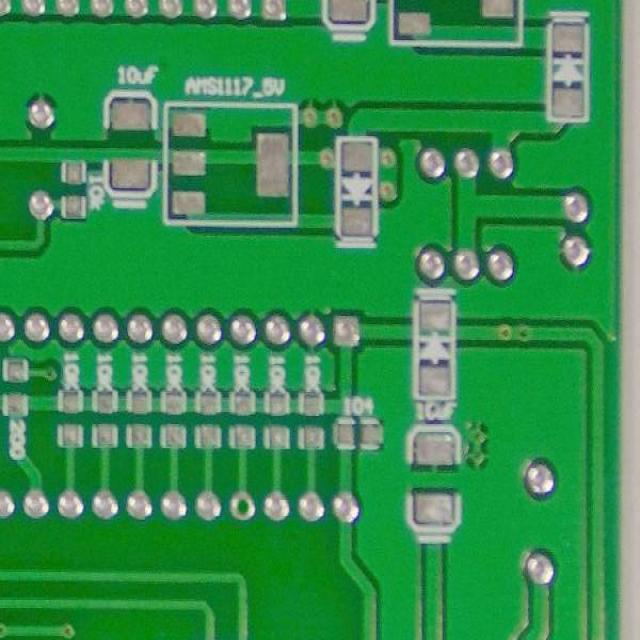missing hole: (225, 485, 260, 528)
